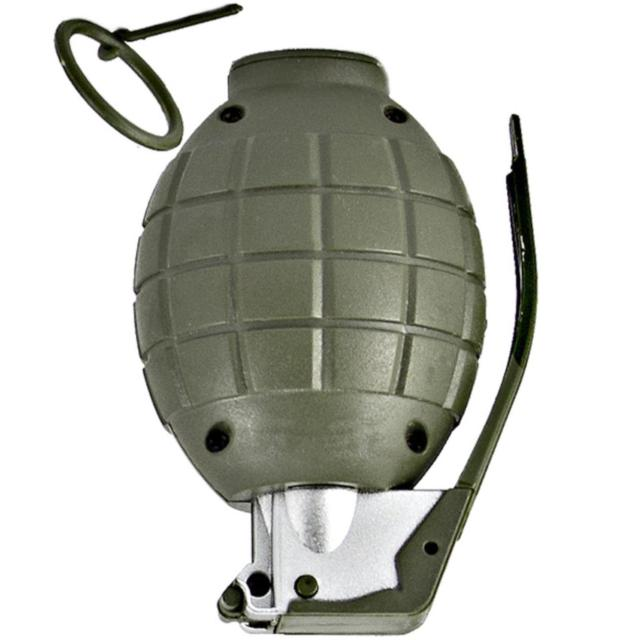grenade: (133, 48, 542, 638)
